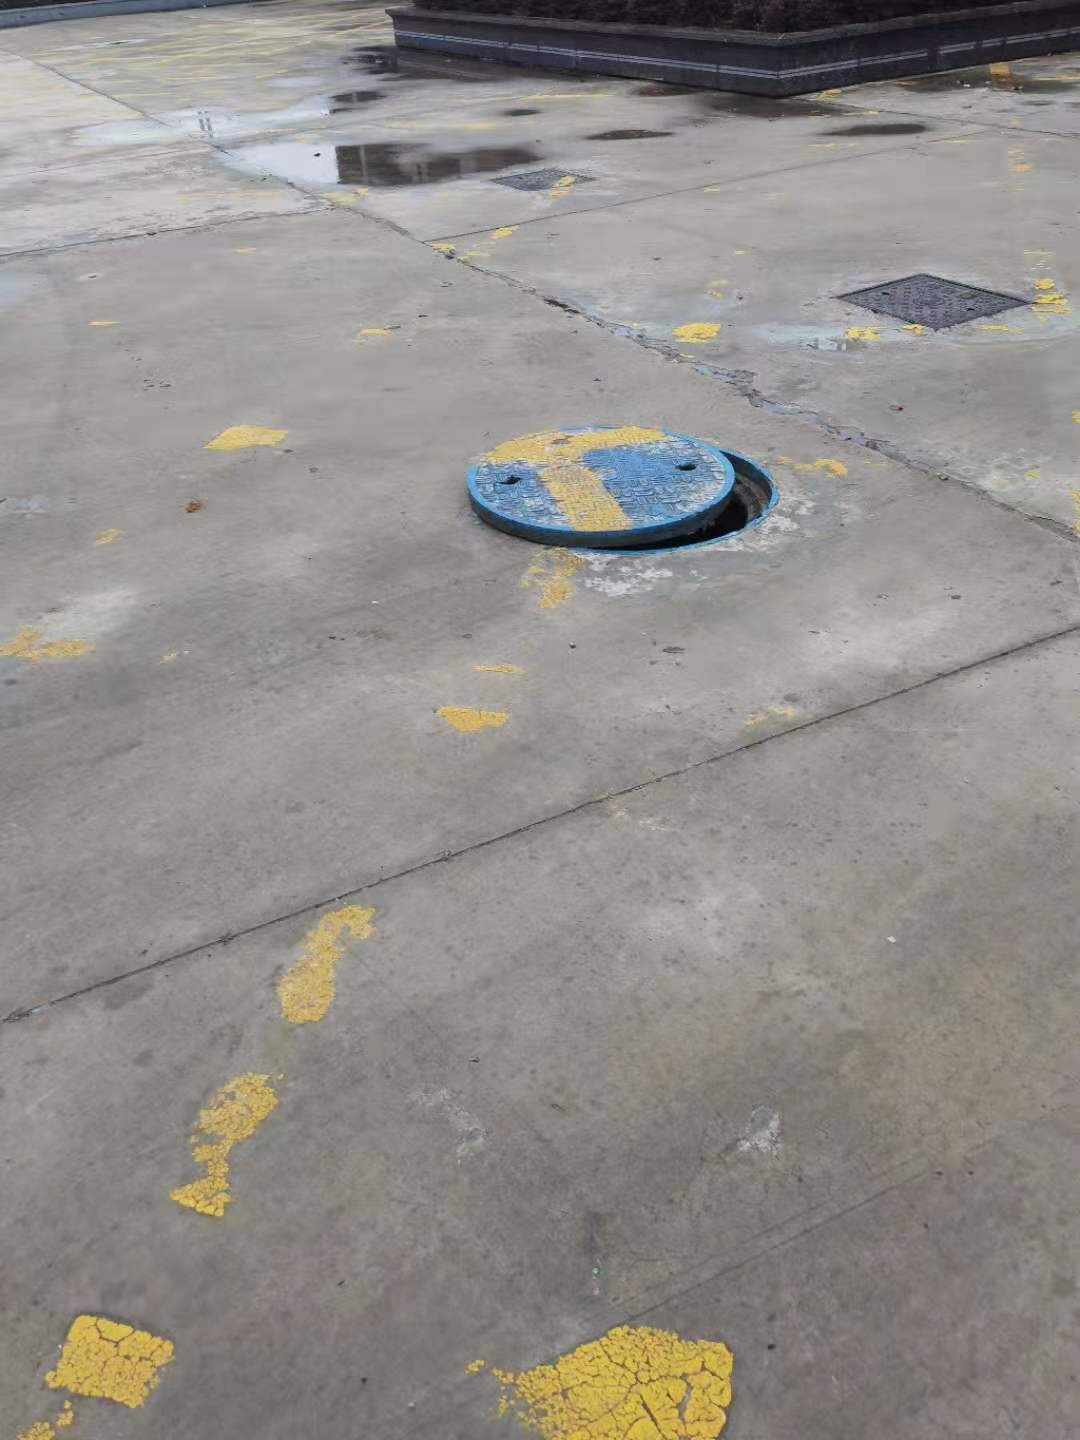uncovered: (470, 430, 781, 554)
